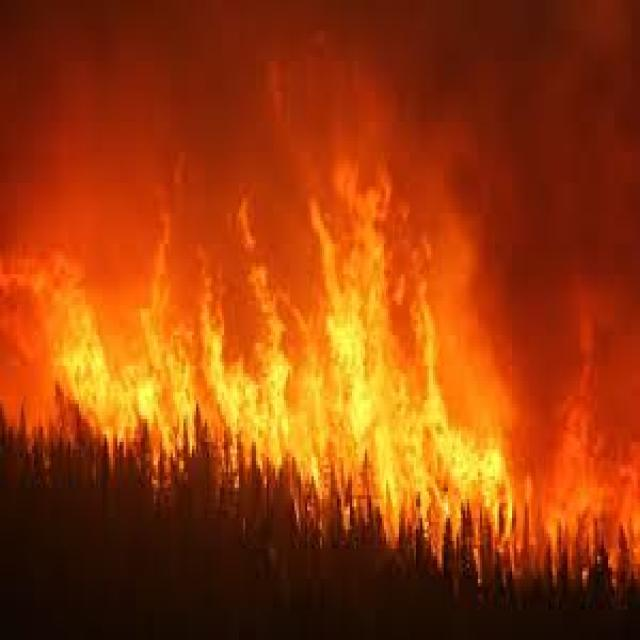Fire: (0, 126, 636, 544)
